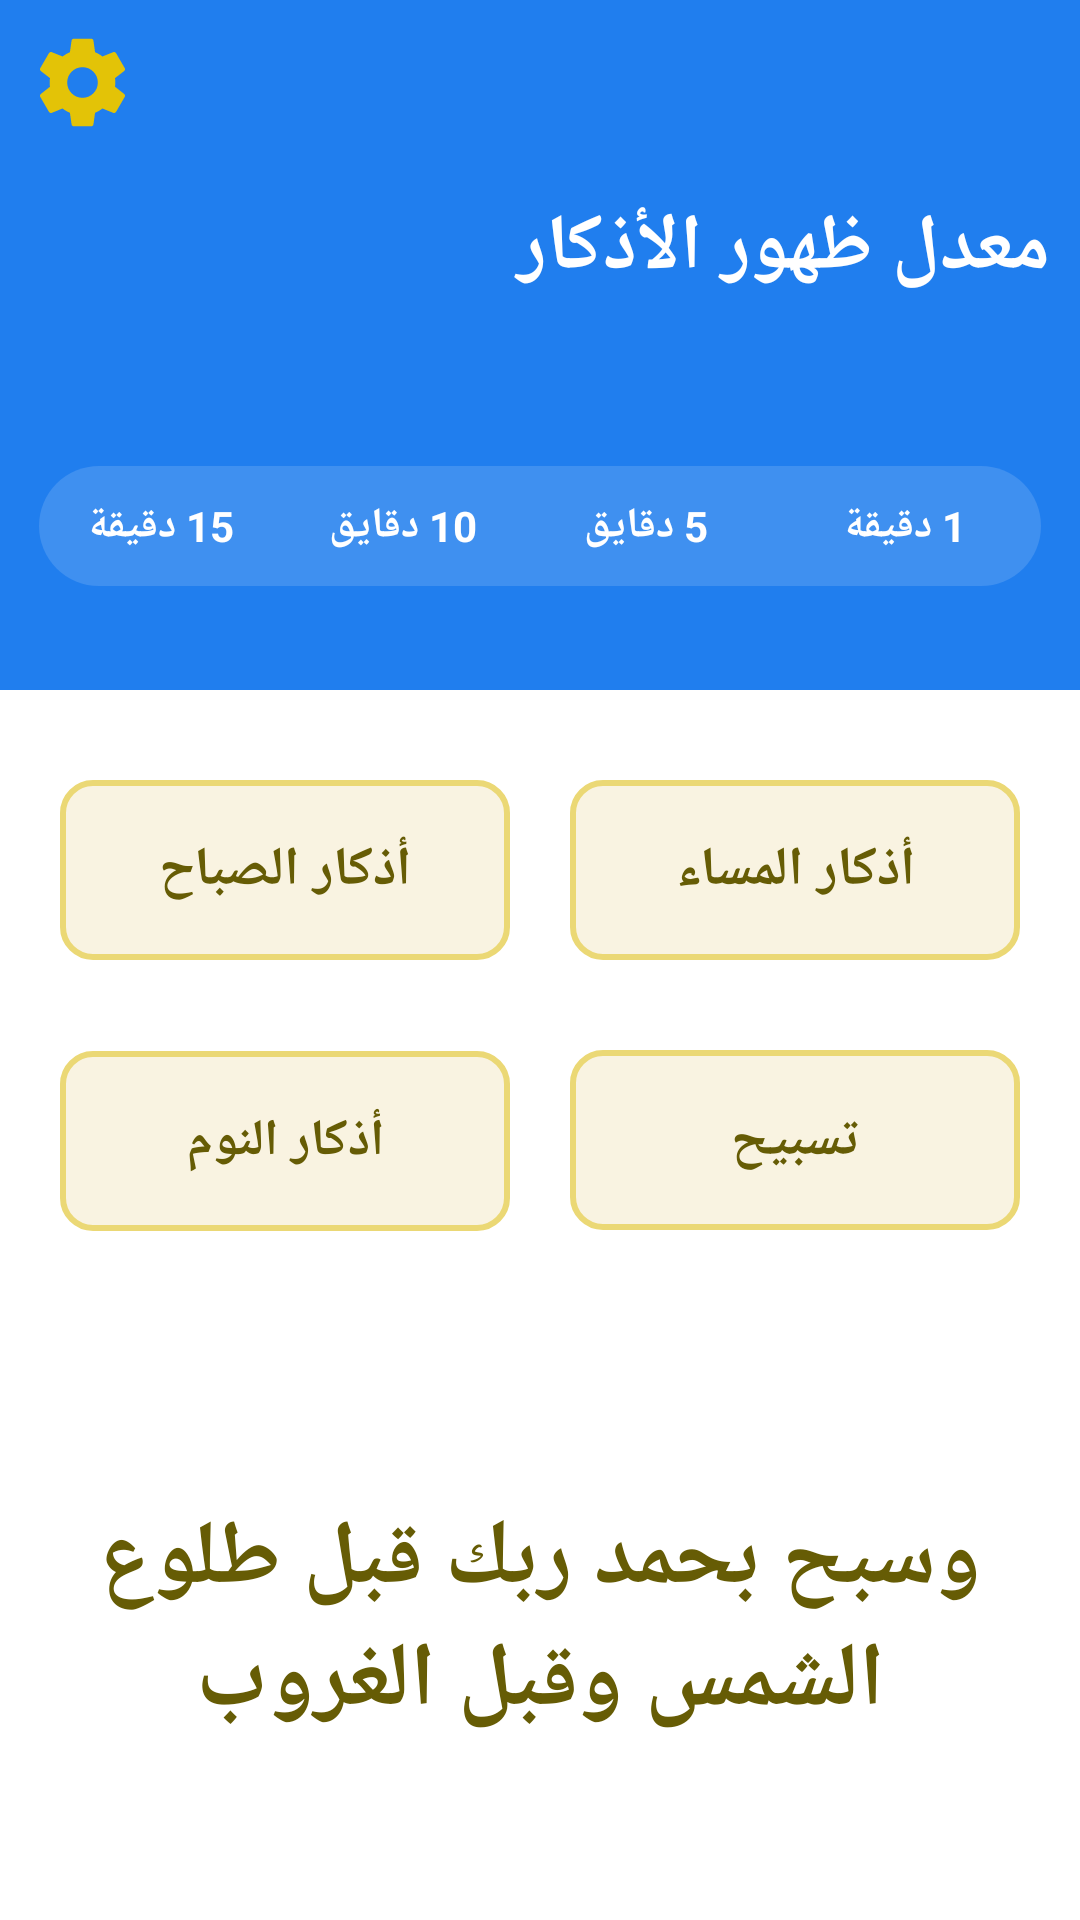

Icons on this 1080×1920 Android screen, each with the point to tap as point (x, y):
cog: point (82, 82)
